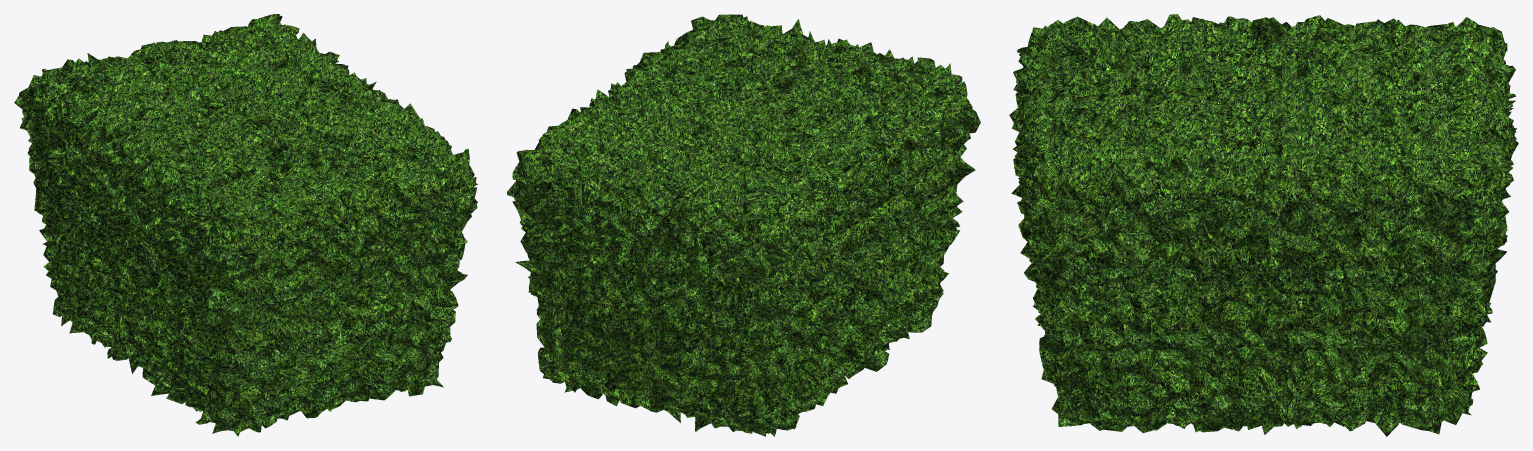
File: bush.FBX
The picture shows the model from 3 angles, left to right: view 1: azimuth 30°, elevation 25°; view 2: azimuth 150°, elevation 25°; view 3: azimuth 270°, elevation 25°; orthographic projection. The views are drawn at different scales.
Parts seen in each view (by area): view 1: ChamferBo3; view 2: ChamferBo3; view 3: ChamferBo3.
Boxes of the visible parts, x1,y1,x2,y2 form: ChamferBo3: (14, 14, 478, 436); ChamferBo3: (507, 14, 980, 436); ChamferBo3: (1009, 14, 1518, 436).
Size of the model in its own units: 9.49 by 8.31 by 12.43.
Materials: 1 (1 with a texture image).
